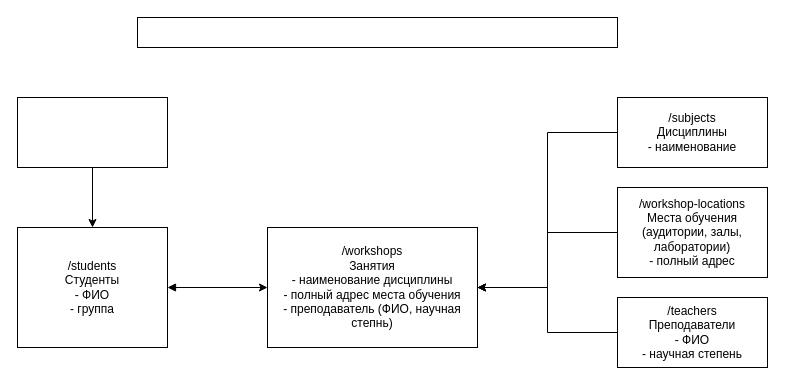
The diagram is 785 pixels wide and 385 high, and some of its shapes have lost their labels. Here are the shapes that lost their labels. From the top down, the centre of each, then its label:
the point at 377,32: University / Университет
the point at 92,132: /student-groups Студенческие группы - наименование
